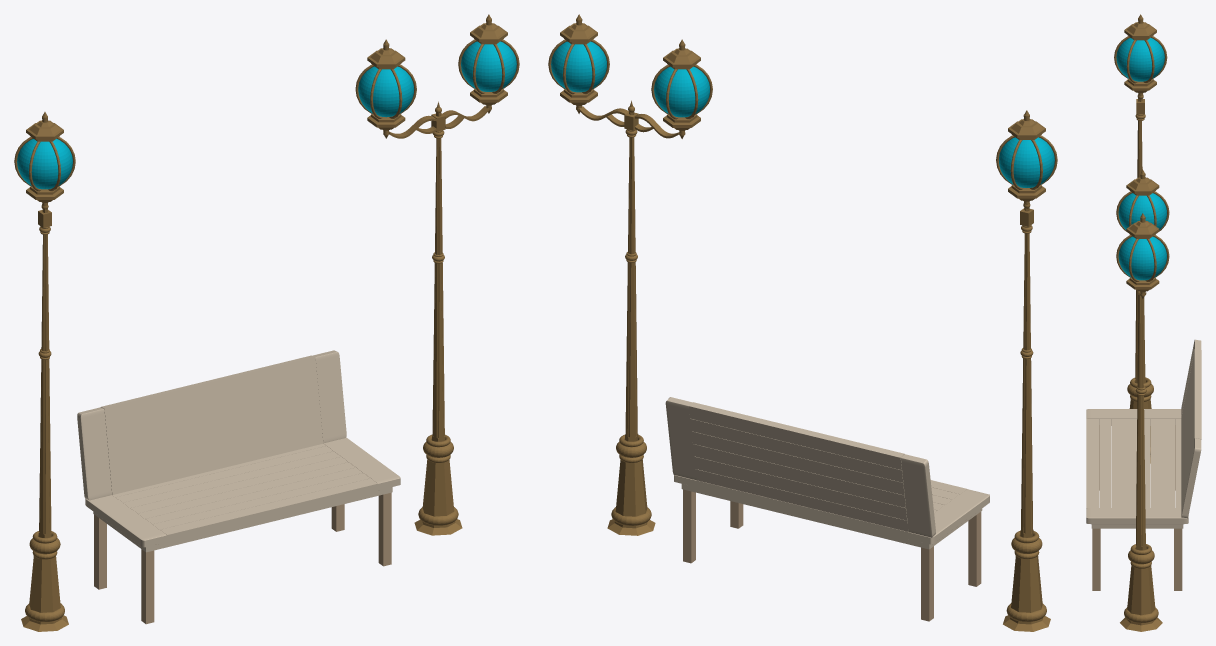
Rendered from manseok_kim-chair-2119.glb.
3 renders of one model, left to right at view 1: azimuth 30°, elevation 25°; view 2: azimuth 150°, elevation 25°; view 3: azimuth 270°, elevation 25°, orthographic. The views are drawn at different scales.
Parts seen in each view (by area): view 1: Mesh_Mesh_head_geo.001_lambert2SG.001; view 2: Mesh_Mesh_head_geo.001_lambert2SG.001; view 3: Mesh_Mesh_head_geo.001_lambert2SG.001.
Part boxes in pixels (left/top/right/bottom): Mesh_Mesh_head_geo.001_lambert2SG.001: left=14, top=14, right=519, bottom=631; Mesh_Mesh_head_geo.001_lambert2SG.001: left=548, top=14, right=1057, bottom=631; Mesh_Mesh_head_geo.001_lambert2SG.001: left=1086, top=14, right=1201, bottom=631.
Bounding box in the file's own units: 0.2038 × 0.2014 × 0.0475.
